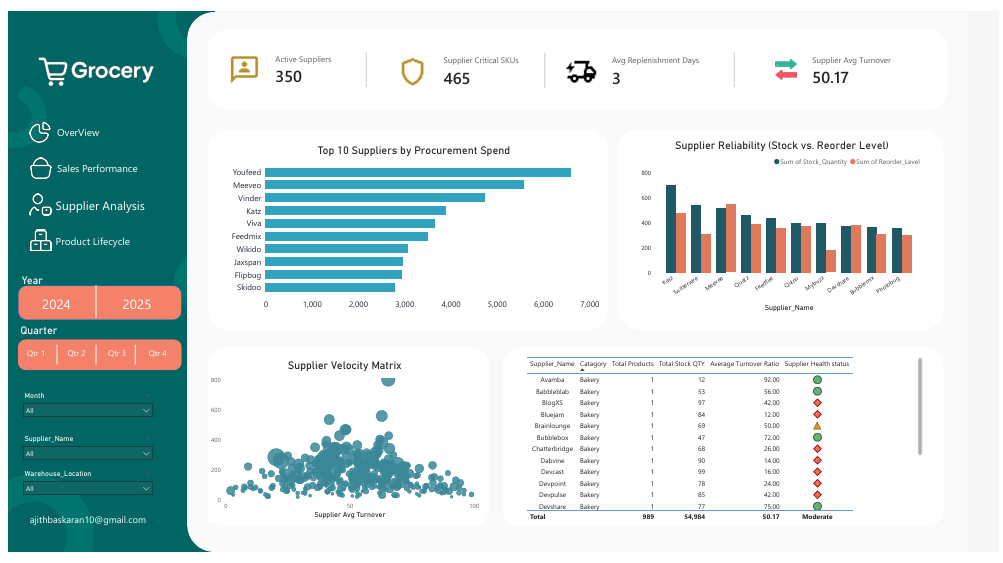

What the dashboard file says about the page in this screenshot:
{"tool":"powerbi","page":{"name":"Supplier Analysis","canvas":[1980,1080],"ordinal":2},"visuals":[{"type":"shape","box":[357.8,0,1561.4,1080],"z":0},{"type":"cardVisual","fields":{"Data":["Key Measures.Total Suppliers"]},"box":[505.3,45.5,210.4,138.8],"z":0,"group":"g1"},{"type":"cardVisual","fields":{"Data":["Key Measures.Supplier Avg Turnover"]},"box":[1577.6,51.6,242.9,132.3],"z":0,"group":"g4"},{"type":"cardVisual","fields":{"Data":["Key Measures.Supplier Critical SKUs"]},"box":[841.5,54.2,210.4,130.1],"z":0,"group":"g3"},{"type":"cardVisual","fields":{"Data":["Key Measures.Avg Replenishment Days"]},"box":[1177.6,54.2,273.3,130.1],"z":0,"group":"g2"},{"type":"shape","box":[399,34.7,1479,160.5],"z":1000},{"type":"image","box":[440.2,82.4,65.1,65.1],"z":1000,"group":"g1"},{"type":"image","box":[776.4,86.7,65.1,65.1],"z":1000,"group":"g3"},{"type":"image","box":[1112.5,86.7,65.1,65.1],"z":1000,"group":"g2"},{"type":"image","box":[1533.3,93.3,43.4,43.4],"z":2000},{"type":"group","id":"g1","title":"Group 1","box":[440.2,45.5,275.4,138.8],"z":3000},{"type":"group","id":"g2","title":"Group 3","box":[1112.5,54.2,338.3,130.1],"z":4000},{"type":"group","id":"g3","title":"Group 2","box":[776.4,54.2,275.4,130.1],"z":5000},{"type":"group","id":"g4","title":"Group 4","box":[1577.6,51.6,242.9,132.3],"z":6000},{"type":"shape","box":[676.6,80.2,78.1,69.4],"z":7000},{"type":"shape","box":[1411.8,80.2,78.1,69.4],"z":8000},{"type":"shape","box":[1032.3,82.4,80.2,69.4],"z":9000},{"type":"shape","box":[399,234.2,800.2,401.2],"z":10000},{"type":"shape","box":[1218.8,234.2,650.6,401.2],"z":11000},{"type":"shape","box":[401.2,670.1,559.5,360],"z":12000},{"type":"shape","box":[988.9,670.1,880.5,360],"z":13000},{"type":"image","box":[26,19.5,299.3,199.5],"z":14000},{"type":"image","box":[30.4,219,67.2,43.4],"z":15000},{"type":"image","box":[43.4,290.6,43.4,43.4],"z":16000},{"type":"image","box":[43.4,362.2,43.4,45.5],"z":17000},{"type":"image","box":[43.4,435.9,43.4,43.4],"z":18000},{"type":"shape","box":[19.5,654.9,327.5,60.7],"z":19000},{"type":"advancedSlicerVisual","fields":{"Values":["Grocery_Inventory.Date_Received.Variation.Date Hierarchy.Quarter"]},"box":[19.5,624.6,327.5,91.1],"z":20000},{"type":"shape","box":[58.6,665.8,78.1,39],"z":21000},{"type":"shape","box":[136.6,665.8,78.1,39],"z":22000},{"type":"shape","box":[214.7,665.8,78.1,39],"z":23000},{"type":"slicer","fields":{"Values":["Grocery_Inventory.Date_Received.Variation.Date Hierarchy.Month"]},"box":[19.5,754.7,279.8,69.4],"z":24000},{"type":"slicer","fields":{"Values":["Grocery_Inventory.Supplier_Name"]},"box":[19.5,841.4,279.8,69.4],"z":25000},{"type":"textbox","box":[8.7,997.6,301.4,43.4],"z":26000},{"type":"clusteredBarChart","title":"Top 10 Suppliers by Procurement  Spend","fields":{"Category":["Grocery_Inventory.Supplier_Name"],"Y":["Key Measures.Total Sales Value"]},"box":[435.9,264.6,750,340.5],"z":27000},{"type":"clusteredColumnChart","title":"Supplier Reliability (Stock vs. Reorder Level)","fields":{"Category":["Grocery_Inventory.Supplier_Name"],"Y":["Sum(Grocery_Inventory.Stock_Quantity)","Sum(Grocery_Inventory.Reorder_Level)"]},"box":[1260.2,254.6,571.7,350.8],"z":28000},{"type":"scatterChart","title":"Supplier Velocity Matrix","fields":{"Category":["Grocery_Inventory.Supplier_Name"],"X":["Key Measures.Supplier Avg Turnover"],"Y":["Sum(Grocery_Inventory.Sales_Volume)"],"Size":["Key Measures.Total Sales Value"]},"box":[400.2,693.8,545.7,324.8],"z":29000},{"type":"tableEx","fields":{"Values":["Grocery_Inventory.Supplier_Name","Grocery_Inventory.Catagory","Key Measures.Total Products","Key Measures.Total Stock QTY","Key Measures.Average Turnover Ratio","Key Measures.Supplier Health status"]},"box":[1031.6,686,800,340],"z":30000},{"type":"slicer","fields":{"Values":["Grocery_Inventory.Warehouse_Location"]},"box":[19.5,910.8,279.8,69.4],"z":31000},{"type":"shape","box":[97.6,208.2,214.7,65.1],"z":32000},{"type":"shape","box":[97.6,279.8,214.7,65.1],"z":33000},{"type":"shape","box":[95.4,353.5,214.7,65.1],"z":34000},{"type":"shape","box":[95.4,425.1,214.7,65.1],"z":35000},{"type":"shape","box":[19.5,546.5,327.5,69.4],"z":36000},{"type":"advancedSlicerVisual","fields":{"Values":["Grocery_Inventory.Date_Received.Variation.Date Hierarchy.Year"]},"box":[21.7,524.8,325.3,91.1],"z":37000,"group":"g5"},{"type":"shape","box":[136.6,546.5,78.1,65.1],"z":38000,"group":"g5"},{"type":"group","id":"g5","title":"Group 5","box":[21.7,524.8,325.3,91.1],"z":38001}]}

Visuals, with their boxes on the page's 1980x1080 design canvas (x1, y1, x2, y2). These are canvas units, not pixel positions in the 1003x563 screenshot, which may show the page scaled, cropped or inside an application window:
shape: [358, 0, 1919, 1080]
cardVisual - Key Measures.Total Suppliers: [505, 46, 716, 184]
cardVisual - Key Measures.Supplier Avg Turnover: [1578, 52, 1820, 184]
cardVisual - Key Measures.Supplier Critical SKUs: [842, 54, 1052, 184]
cardVisual - Key Measures.Avg Replenishment Days: [1178, 54, 1451, 184]
shape: [399, 35, 1878, 195]
image: [440, 82, 505, 148]
image: [776, 87, 842, 152]
image: [1112, 87, 1178, 152]
image: [1533, 93, 1577, 137]
"Group 1" group: [440, 46, 716, 184]
"Group 3" group: [1112, 54, 1451, 184]
"Group 2" group: [776, 54, 1052, 184]
"Group 4" group: [1578, 52, 1820, 184]
shape: [677, 80, 755, 150]
shape: [1412, 80, 1490, 150]
shape: [1032, 82, 1112, 152]
shape: [399, 234, 1199, 635]
shape: [1219, 234, 1869, 635]
shape: [401, 670, 961, 1030]
shape: [989, 670, 1869, 1030]
image: [26, 20, 325, 219]
image: [30, 219, 98, 262]
image: [43, 291, 87, 334]
image: [43, 362, 87, 408]
image: [43, 436, 87, 479]
shape: [20, 655, 347, 716]
advancedSlicerVisual - Grocery_Inventory.Date_Received.Variation.Date Hierarchy.Quarter: [20, 625, 347, 716]
shape: [59, 666, 137, 705]
shape: [137, 666, 215, 705]
shape: [215, 666, 293, 705]
slicer - Grocery_Inventory.Date_Received.Variation.Date Hierarchy.Month: [20, 755, 299, 824]
slicer - Grocery_Inventory.Supplier_Name: [20, 841, 299, 911]
textbox: [9, 998, 310, 1041]
"Top 10 Suppliers by Procurement  Spend" clusteredBarChart: [436, 265, 1186, 605]
"Supplier Reliability (Stock vs. Reorder Level)" clusteredColumnChart: [1260, 255, 1832, 605]
"Supplier Velocity Matrix" scatterChart: [400, 694, 946, 1019]
tableEx - Grocery_Inventory.Supplier_Name x Grocery_Inventory.Catagory: [1032, 686, 1832, 1026]
slicer - Grocery_Inventory.Warehouse_Location: [20, 911, 299, 980]
shape: [98, 208, 312, 273]
shape: [98, 280, 312, 345]
shape: [95, 354, 310, 419]
shape: [95, 425, 310, 490]
shape: [20, 546, 347, 616]
advancedSlicerVisual - Grocery_Inventory.Date_Received.Variation.Date Hierarchy.Year: [22, 525, 347, 616]
shape: [137, 546, 215, 612]
"Group 5" group: [22, 525, 347, 616]
